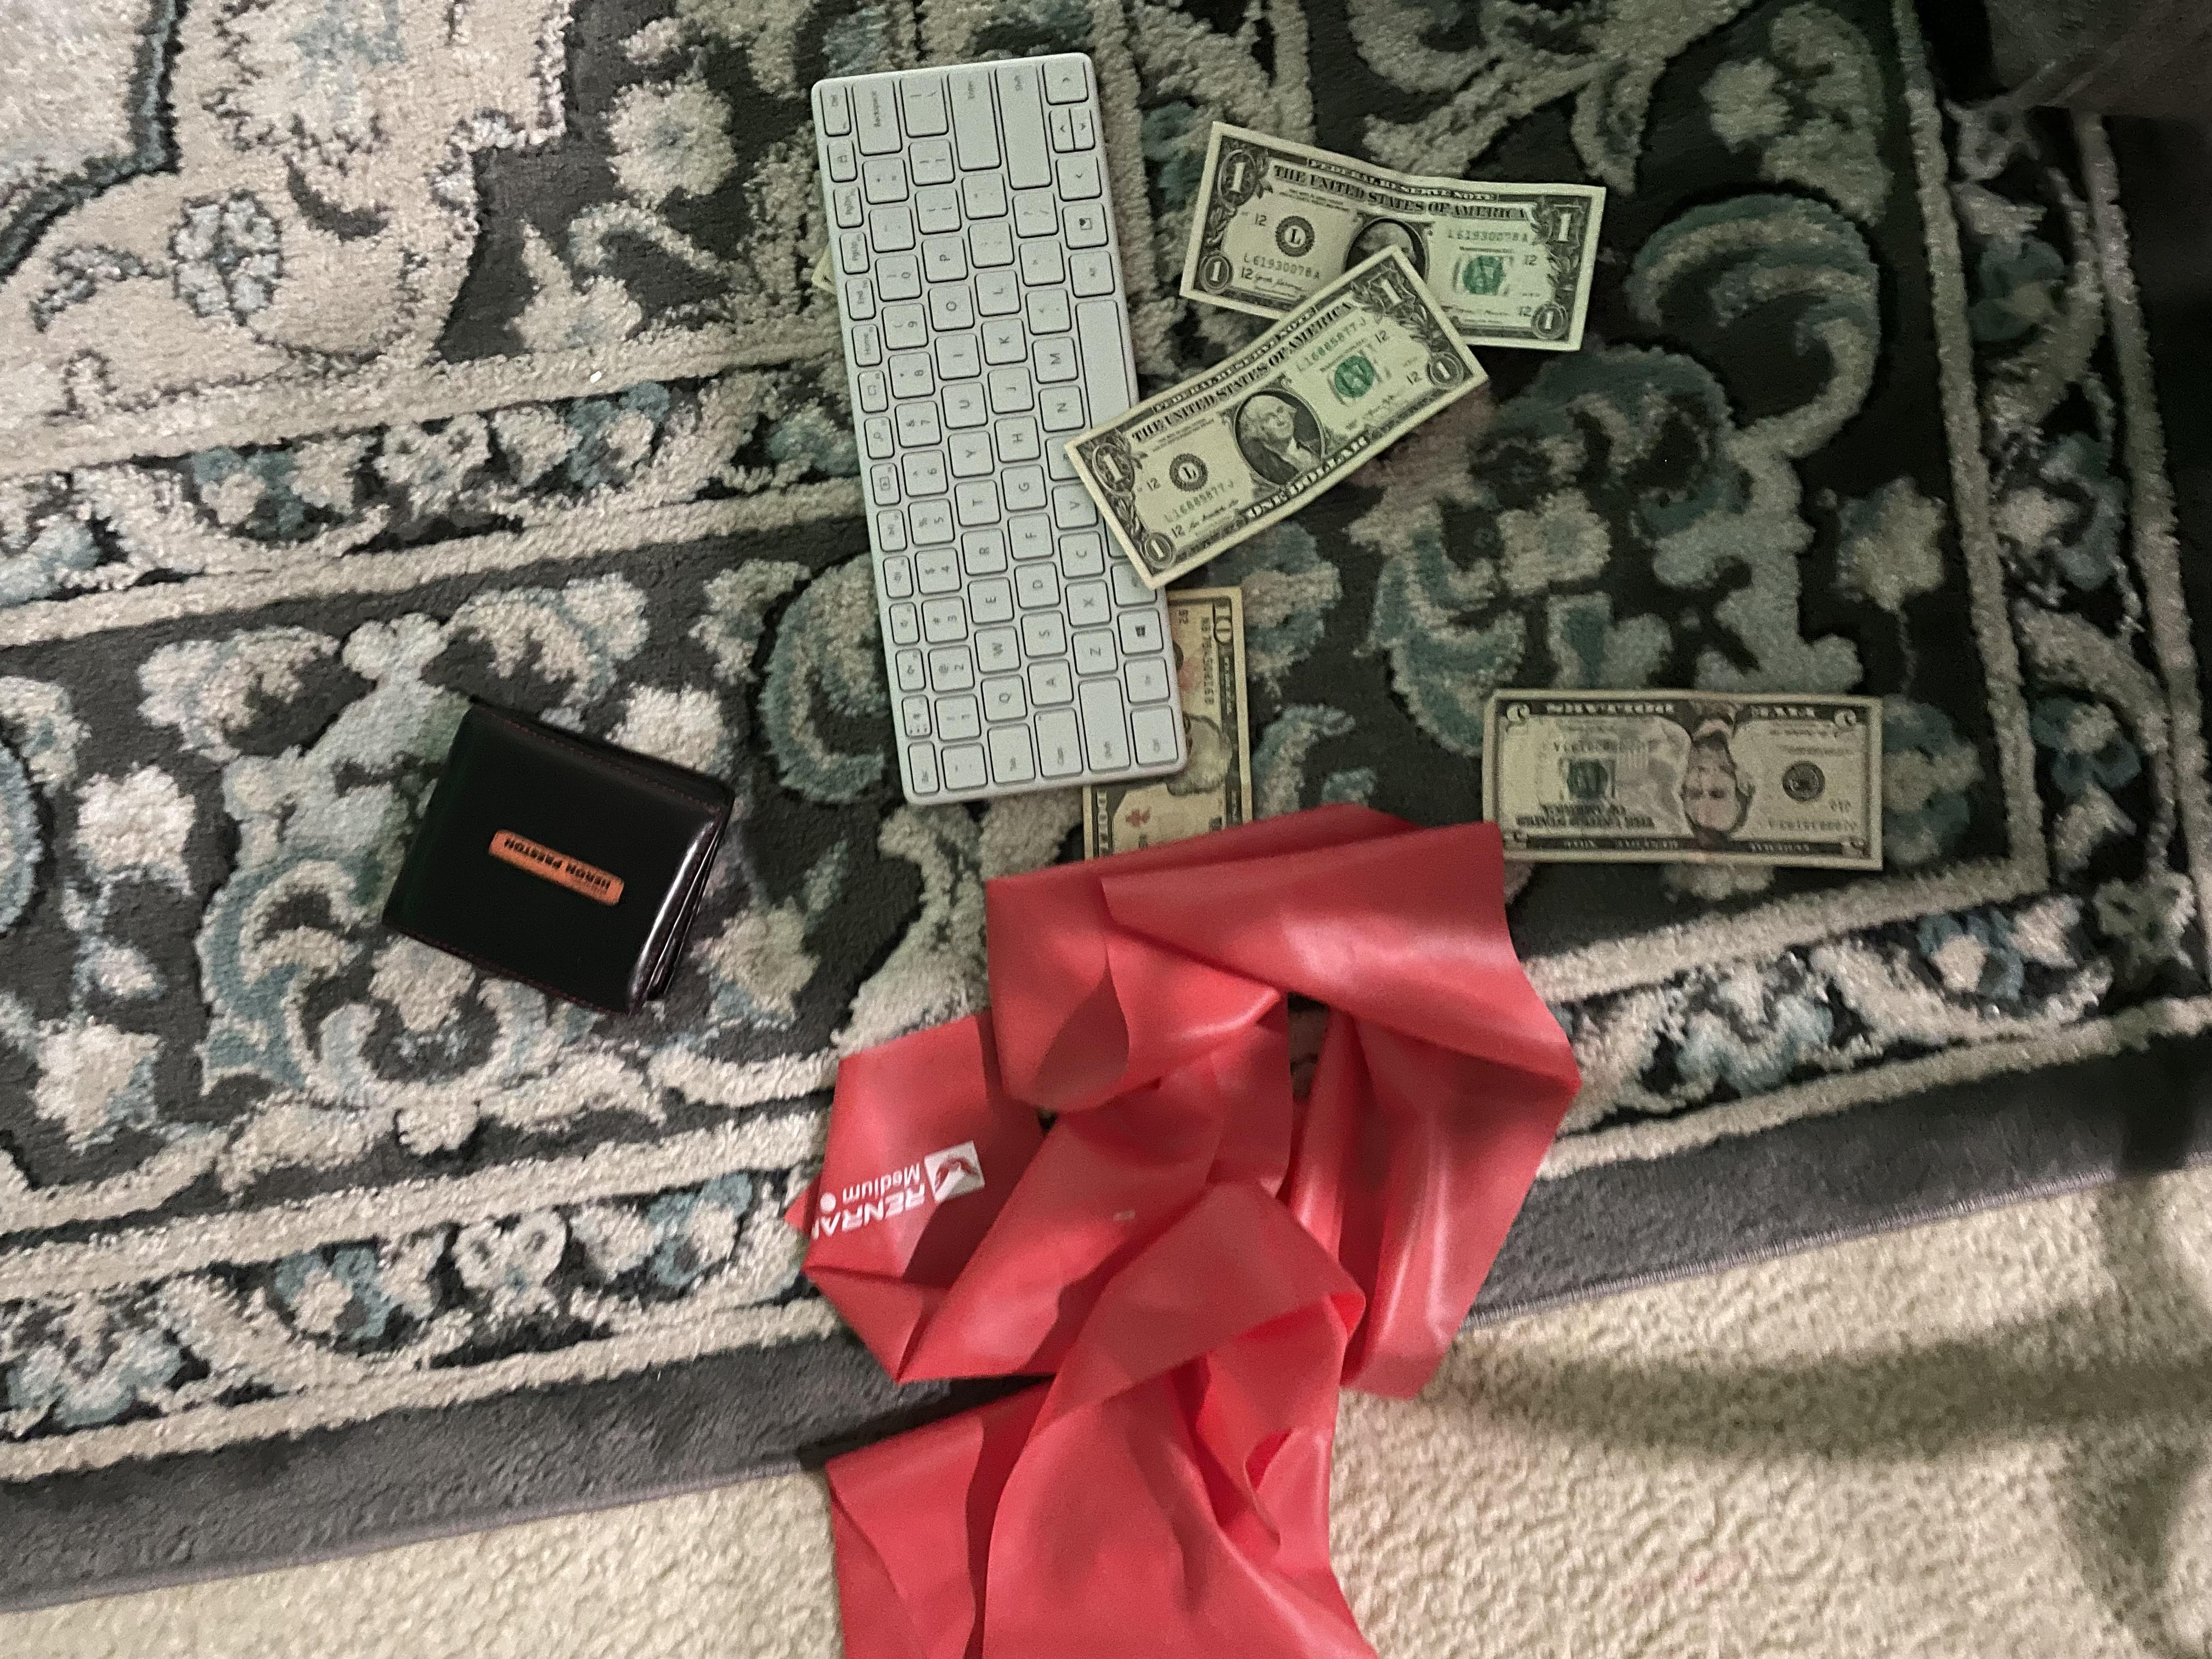OneBill: (1083, 242, 1491, 586), (1177, 113, 1613, 361), (1467, 680, 1898, 870), (1073, 591, 1252, 889)
